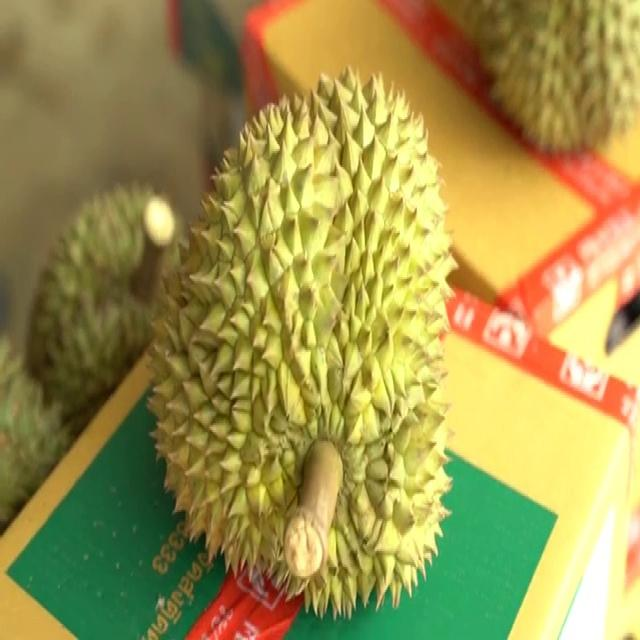durian: (143, 62, 460, 627)
